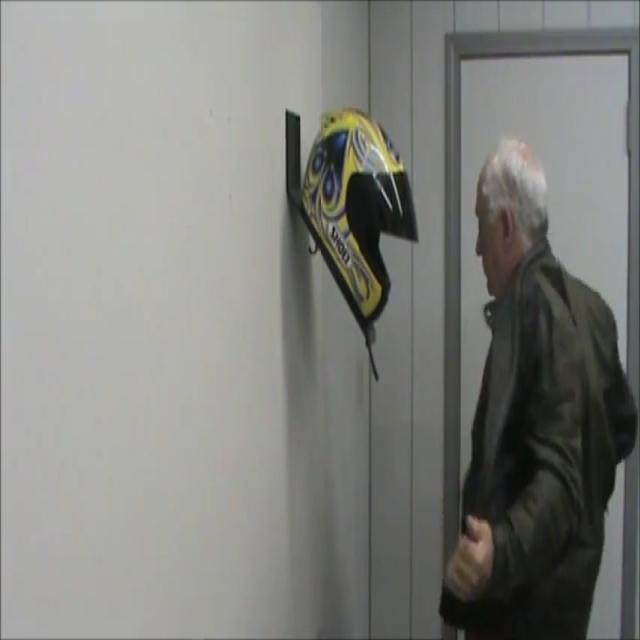Jacket_Wearer: (446, 249, 640, 640)
Person: (437, 145, 640, 640)
